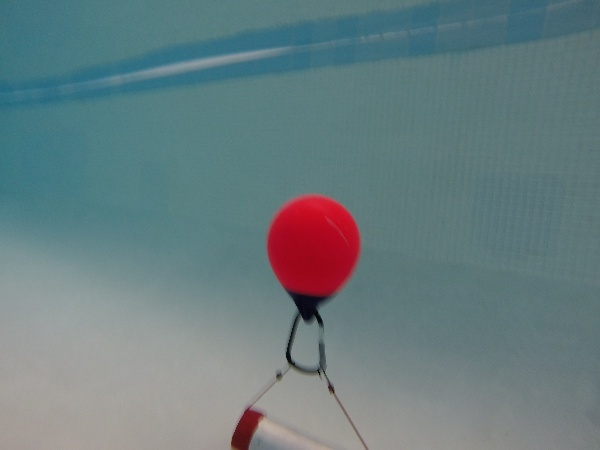buoy_red: (262, 191, 361, 326)
